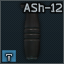ASh-12 Vertical foregrip: (0, 0, 64, 64)
